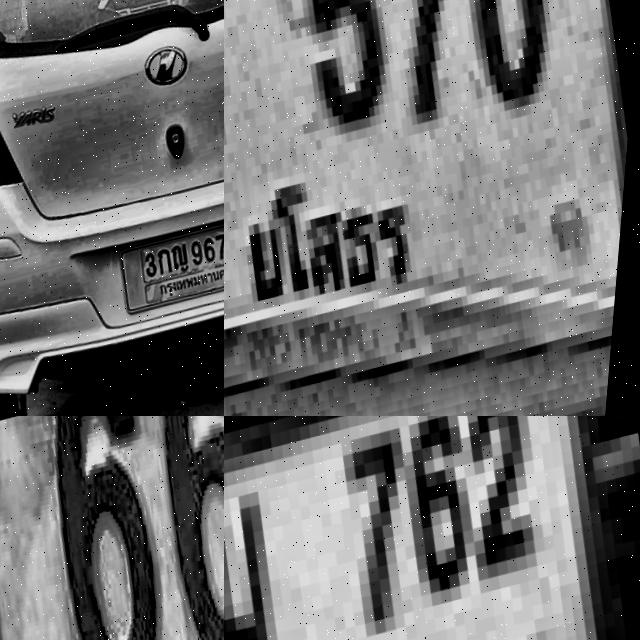license-plate: (224, 0, 640, 416), (224, 416, 640, 640), (0, 416, 224, 640), (113, 207, 224, 325)
